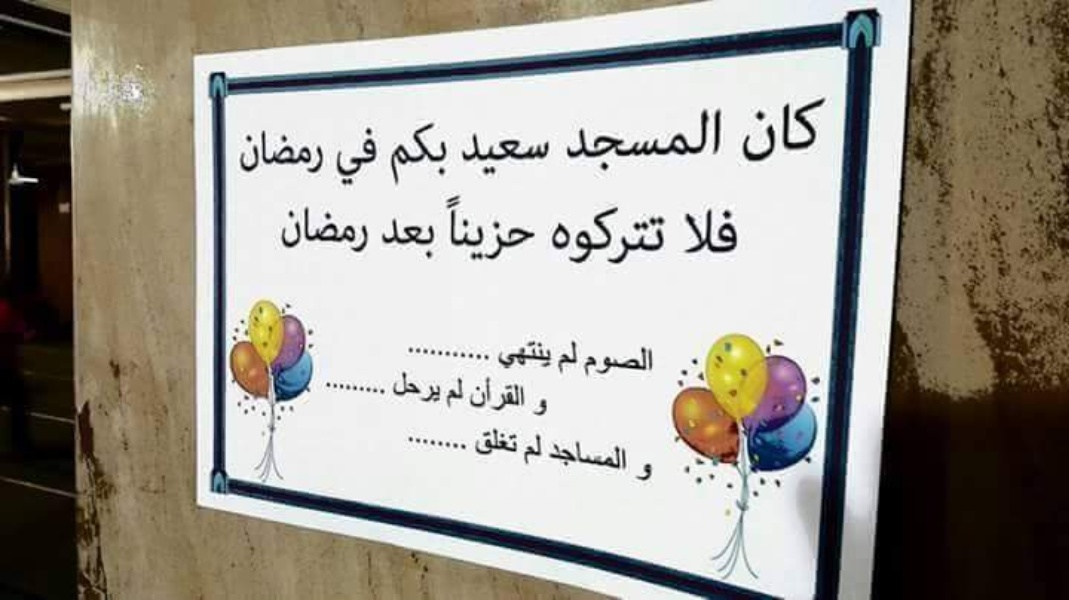text: (449, 194, 464, 266), (465, 194, 480, 266), (481, 194, 496, 266), (497, 194, 512, 266), (513, 194, 528, 266), (753, 96, 768, 165), (769, 96, 784, 165), (785, 96, 800, 165), (801, 96, 816, 165), (705, 109, 721, 173), (401, 121, 416, 188), (417, 121, 432, 188), (577, 109, 592, 173), (593, 109, 608, 173), (609, 109, 624, 173), (625, 109, 640, 173), (641, 109, 656, 173), (657, 109, 672, 173), (673, 109, 688, 173), (689, 109, 704, 173), (561, 202, 576, 266), (577, 202, 592, 266), (593, 202, 608, 266), (609, 202, 624, 266), (625, 202, 640, 266), (641, 202, 656, 266), (433, 121, 447, 188), (353, 200, 369, 254), (353, 130, 368, 186), (289, 200, 304, 254), (305, 200, 320, 254), (321, 200, 336, 254), (337, 200, 352, 254), (257, 127, 272, 174), (273, 127, 288, 174), (289, 127, 304, 174), (305, 127, 320, 174), (689, 207, 704, 254), (705, 207, 720, 254), (721, 207, 736, 254), (817, 96, 827, 165), (465, 131, 480, 176), (481, 131, 496, 176), (497, 131, 512, 176), (513, 131, 528, 176), (529, 131, 544, 176), (369, 130, 381, 186), (385, 217, 400, 259), (401, 217, 416, 259), (417, 217, 432, 259), (743, 96, 752, 165), (341, 130, 352, 186), (481, 373, 496, 412), (497, 373, 512, 412), (657, 202, 666, 266), (561, 341, 576, 378), (401, 370, 416, 406), (417, 370, 432, 406), (561, 440, 576, 476), (577, 440, 592, 476), (593, 440, 608, 476), (609, 440, 624, 476), (392, 121, 400, 188), (449, 375, 464, 410), (481, 424, 496, 458), (497, 424, 512, 458), (513, 373, 526, 412), (529, 194, 536, 266), (593, 347, 608, 379), (609, 347, 624, 379), (625, 347, 640, 379), (529, 434, 544, 465), (569, 109, 576, 173), (513, 341, 528, 370), (529, 341, 544, 370), (247, 127, 256, 174), (641, 347, 654, 379), (433, 370, 444, 406), (554, 202, 560, 266), (641, 461, 657, 483), (502, 341, 512, 370), (583, 347, 592, 379), (545, 131, 551, 176), (545, 341, 554, 370), (321, 127, 326, 174), (284, 200, 288, 254), (394, 370, 400, 406), (554, 440, 560, 476), (417, 347, 432, 361), (433, 347, 448, 361), (449, 347, 464, 361), (465, 347, 480, 361), (513, 424, 519, 458), (417, 436, 432, 449), (433, 436, 448, 449), (449, 436, 464, 449), (337, 382, 352, 394), (353, 382, 368, 394), (369, 382, 384, 394), (476, 373, 480, 412), (323, 382, 336, 394), (538, 397, 544, 421), (685, 207, 688, 254), (406, 436, 416, 449), (433, 217, 436, 259), (407, 347, 416, 361), (481, 347, 490, 361), (545, 397, 550, 421), (557, 341, 560, 378), (577, 341, 580, 378), (477, 424, 480, 458), (447, 194, 448, 266), (625, 440, 627, 476), (446, 375, 448, 410), (465, 375, 467, 410), (526, 434, 528, 465), (737, 207, 738, 254), (465, 436, 468, 449), (385, 382, 387, 394), (639, 461, 640, 483)
